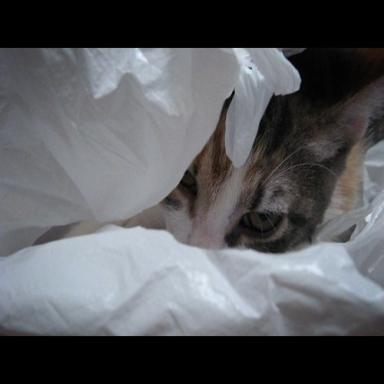plasticbag: (2, 51, 302, 249)
